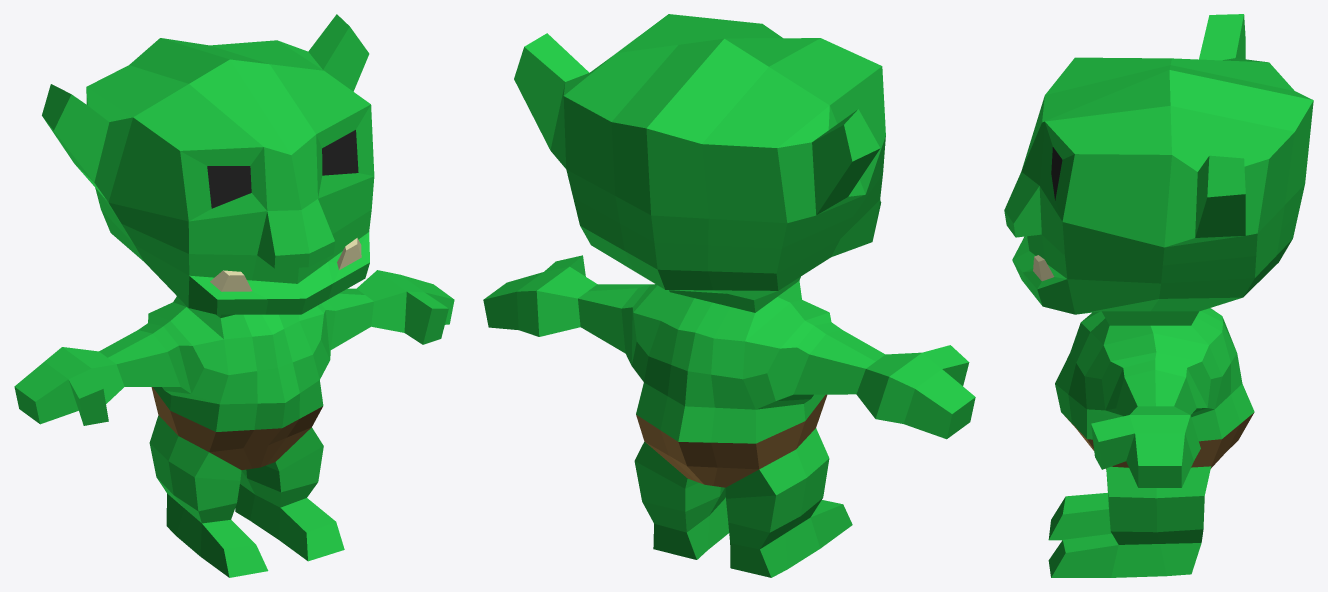
File: ogre.fbx
3 views of the same model, side by side, from view 1: azimuth 30°, elevation 25°; view 2: azimuth 150°, elevation 25°; view 3: azimuth 270°, elevation 25° (orthographic). The views are drawn at different scales.
Visible parts, largest first — view 1: low poly ogre; view 2: low poly ogre; view 3: low poly ogre.
Part boxes in pixels (x1,y1,x2,y2): low poly ogre: [14, 14, 454, 577]; low poly ogre: [483, 14, 975, 577]; low poly ogre: [1004, 14, 1313, 577].
Size of the model in its own units: 155 by 164 by 95.62.
